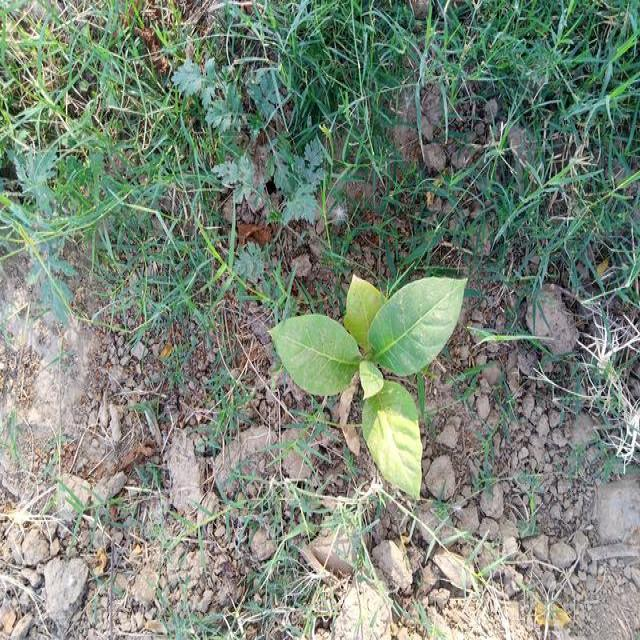crop: (266, 274, 468, 502)
